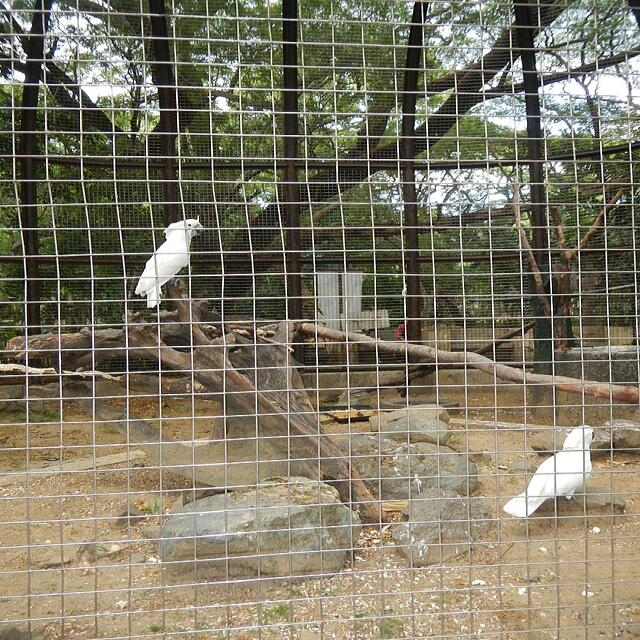Kakatua Putih: (494, 414, 611, 524), (122, 210, 225, 310)
